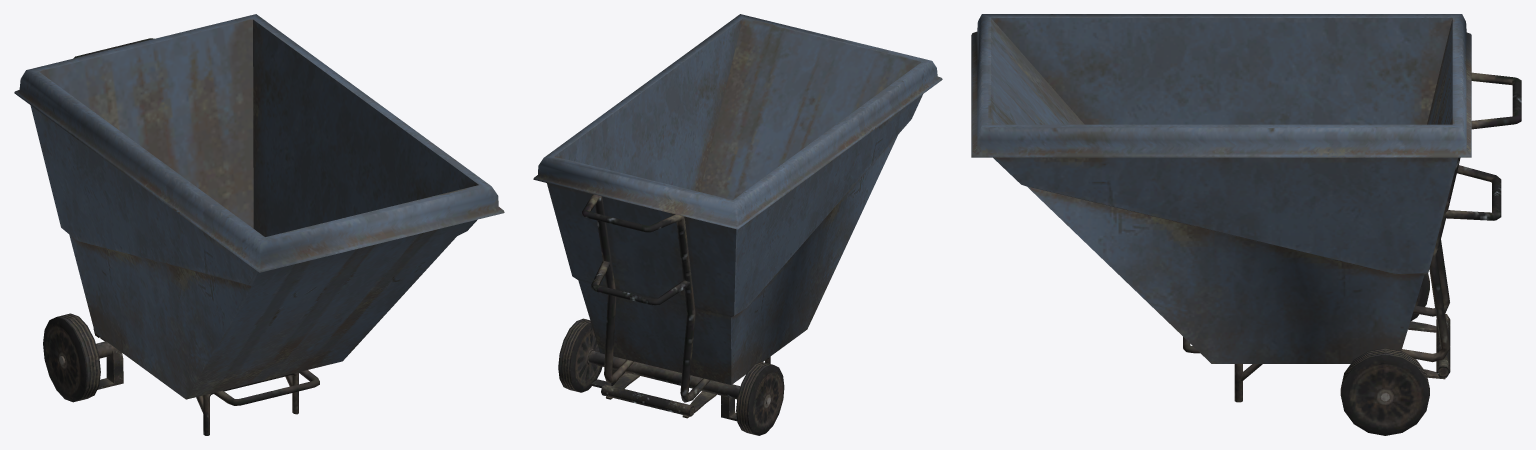
Rendered from sm22_047_vesselwithcart01a.fbx.
3 views of the same model, side by side, from view 1: azimuth 30°, elevation 25°; view 2: azimuth 150°, elevation 25°; view 3: azimuth 270°, elevation 25° (orthographic). The views are drawn at different scales.
Parts seen in each view (by area): view 1: LOD_1_Group_0_Sub_1__sm22_047_VesselWithCart01A_A_Mat; view 2: LOD_1_Group_0_Sub_1__sm22_047_VesselWithCart01A_A_Mat; view 3: LOD_1_Group_0_Sub_1__sm22_047_VesselWithCart01A_A_Mat.
Part boxes in pixels (x1,y1,x2,y2): LOD_1_Group_0_Sub_1__sm22_047_VesselWithCart01A_A_Mat: (14,14,504,435); LOD_1_Group_0_Sub_1__sm22_047_VesselWithCart01A_A_Mat: (533,14,942,435); LOD_1_Group_0_Sub_1__sm22_047_VesselWithCart01A_A_Mat: (971,14,1521,435).
Size of the model in its own units: 0.878 by 1.03 by 1.67.
